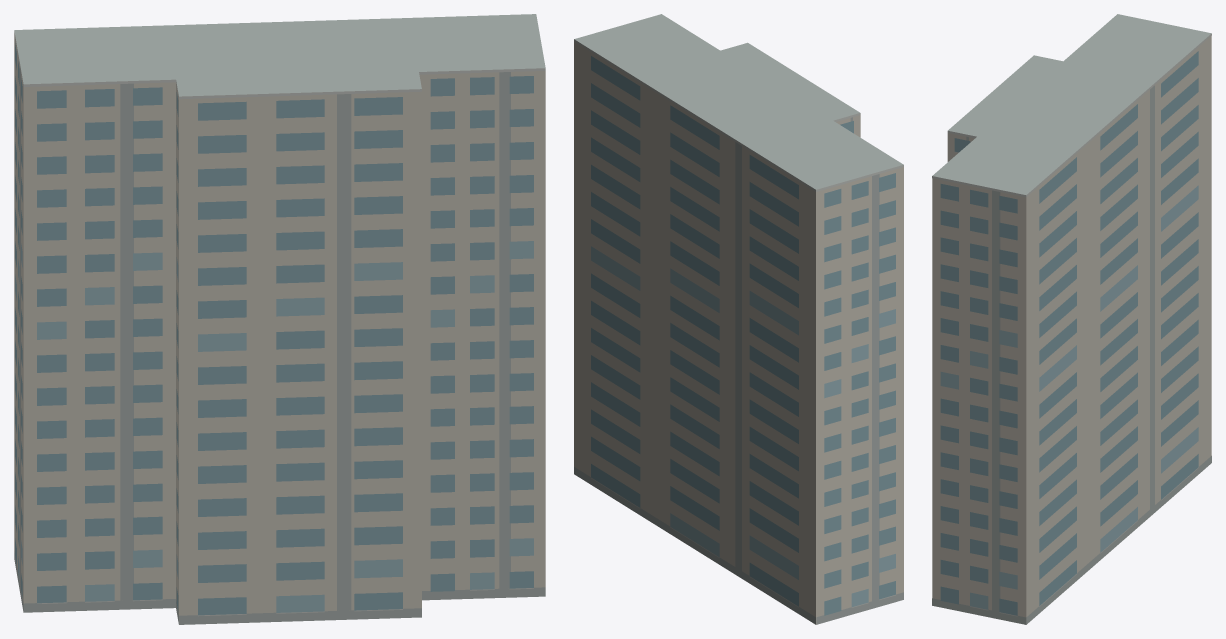
Rendered from residential-49212913-f47c-47b8-8b6c-9ed9915d6078.glb.
3 renders of one model, left to right at view 1: azimuth 30°, elevation 25°; view 2: azimuth 150°, elevation 25°; view 3: azimuth 270°, elevation 25°, orthographic. The views are drawn at different scales.
Visible parts, largest first — view 1: residential-49212913-f47c-47b8-8b6c-9ed9915d6078.tmp; view 2: residential-49212913-f47c-47b8-8b6c-9ed9915d6078.tmp; view 3: residential-49212913-f47c-47b8-8b6c-9ed9915d6078.tmp.
Boxes of the visible parts, x1,y1,x2,y2 form: residential-49212913-f47c-47b8-8b6c-9ed9915d6078.tmp: (14,14,545,624); residential-49212913-f47c-47b8-8b6c-9ed9915d6078.tmp: (574,14,903,624); residential-49212913-f47c-47b8-8b6c-9ed9915d6078.tmp: (932,14,1211,624).
Size of the model in its own units: 43.42 by 48 by 28.32.
